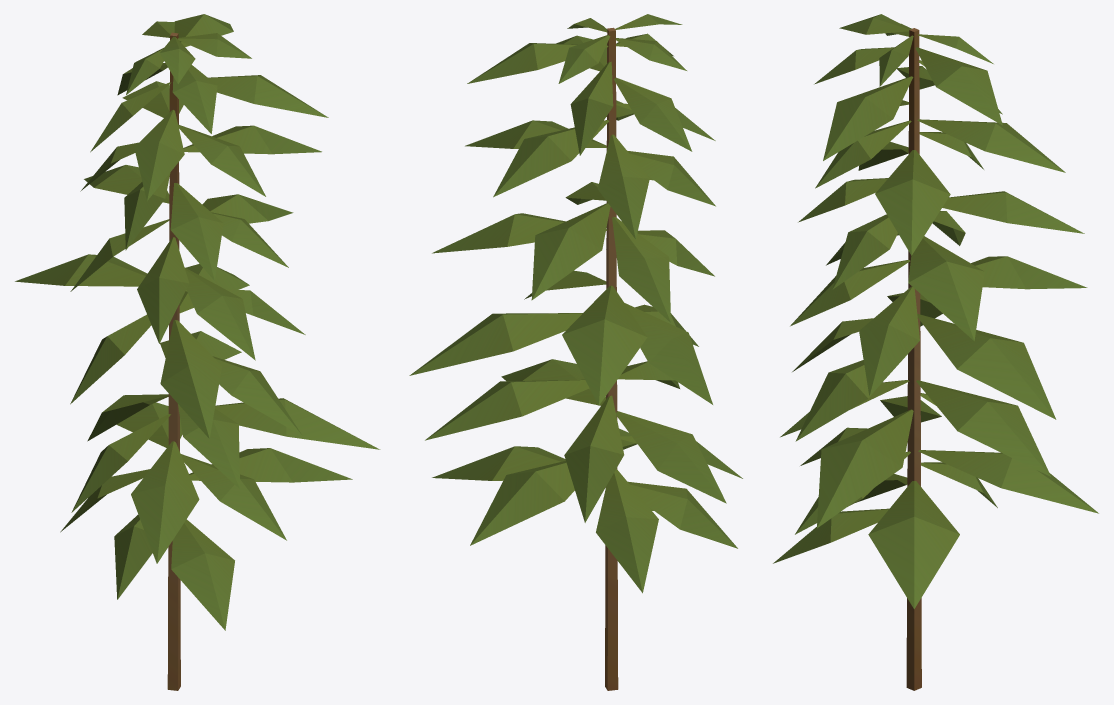
File: Plant_4.fbx
3 renders of one model, left to right at view 1: azimuth 30°, elevation 25°; view 2: azimuth 150°, elevation 25°; view 3: azimuth 270°, elevation 25°, orthographic.
Parts seen in each view (by area): view 1: polySurface10619; view 2: polySurface10619; view 3: polySurface10619.
Boxes of the visible parts, bbox=[...] form: polySurface10619: bbox=[15, 14, 380, 690]; polySurface10619: bbox=[409, 14, 742, 690]; polySurface10619: bbox=[773, 14, 1098, 690].
Bounding box in the file's own units: 69.08 × 151 × 67.62.
